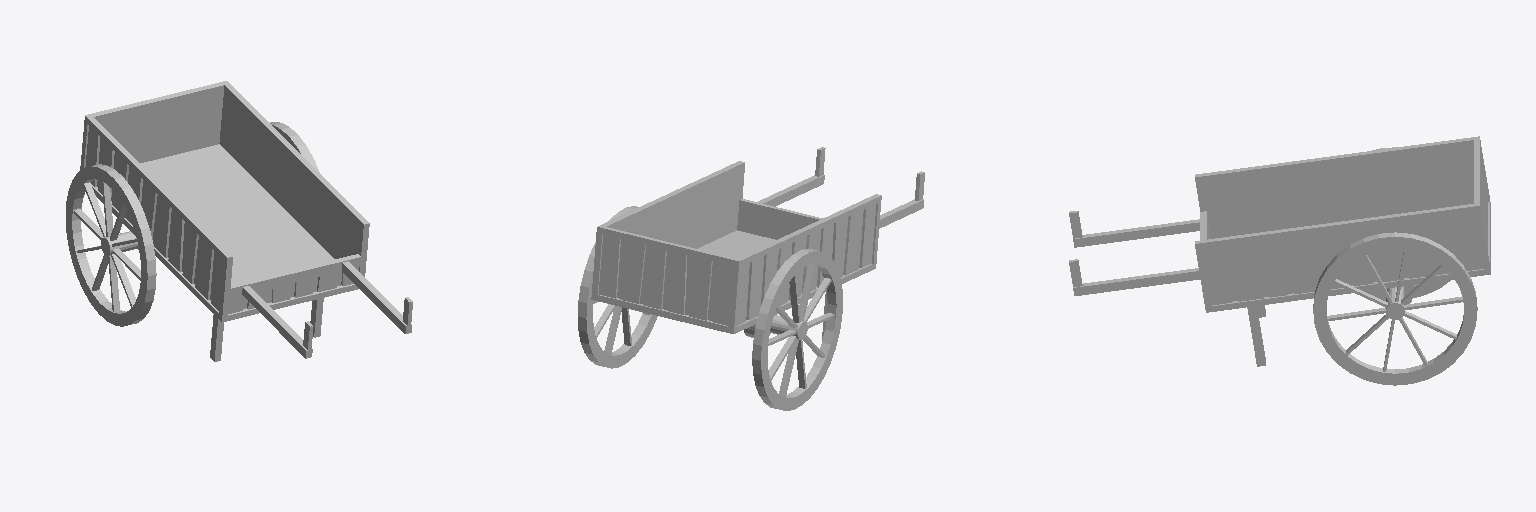
The model's file is cart.obj.
3 views of the same model, side by side, from view 1: azimuth 30°, elevation 25°; view 2: azimuth 150°, elevation 25°; view 3: azimuth 270°, elevation 25° (orthographic).
Visible parts, largest first — view 1: Object_2_Object_0; view 2: Object_2_Object_0; view 3: Object_2_Object_0.
Part boxes in pixels (x1,y1,x2,y2): Object_2_Object_0: (66,81,412,361); Object_2_Object_0: (578,147,924,410); Object_2_Object_0: (1069,136,1490,385).
Bounding box in the file's own units: 2.6 × 2.28 × 5.14.